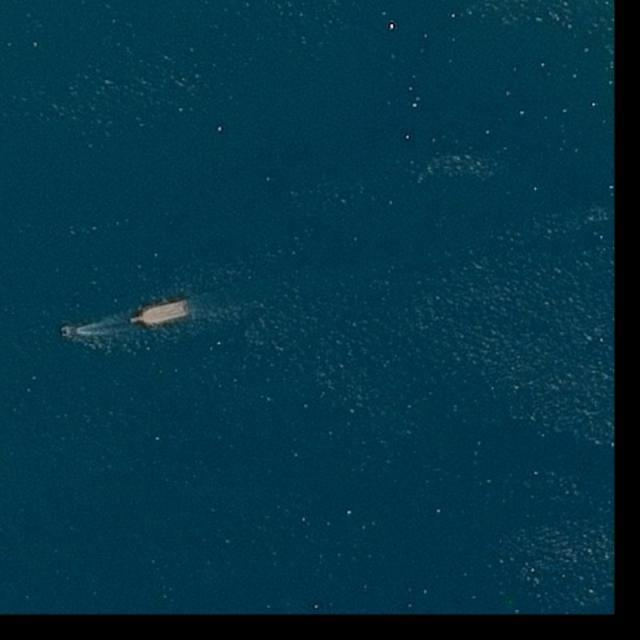ship: (131, 298, 193, 328), (61, 328, 78, 334)
